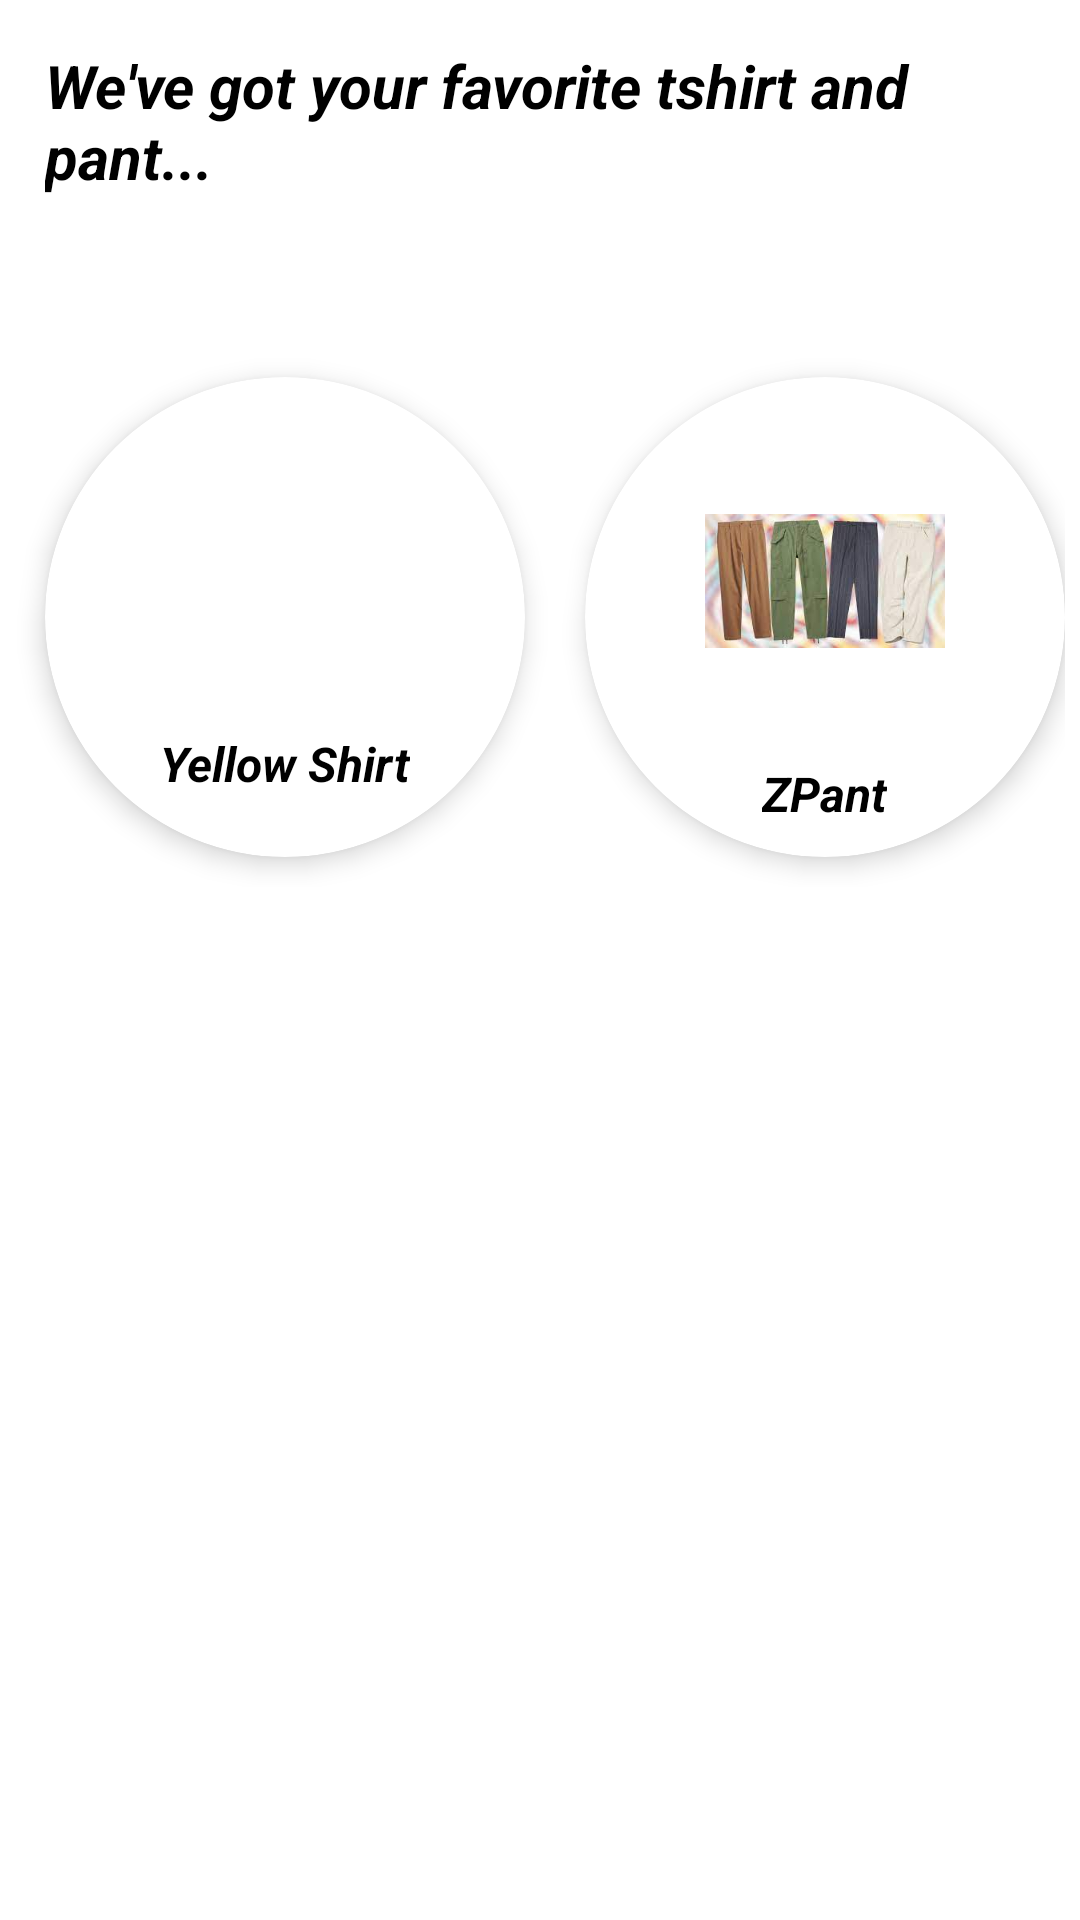

Locate icon controls on the screen. Image size 1080x1920, boxes as rect(x1, y1, x2, y2).
pants: rect(705, 514, 945, 648)
